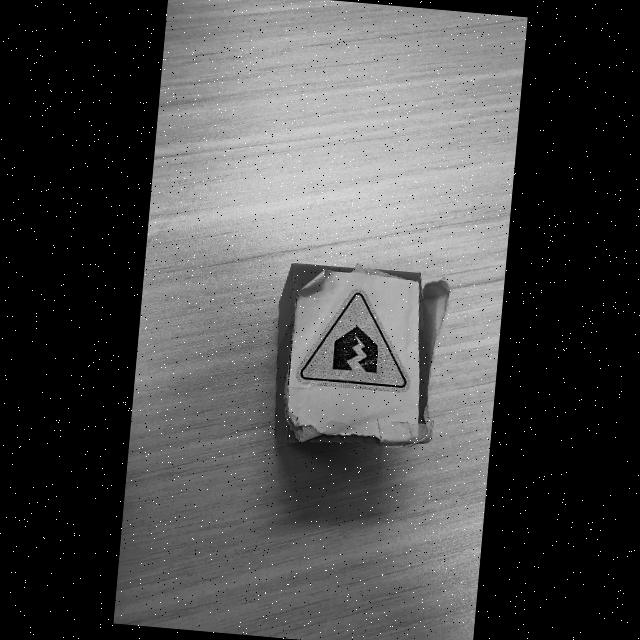Earthquake: (298, 291, 408, 392)
